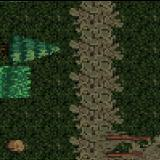Interaction: (100, 127, 143, 160)
Obstacle: (0, 32, 30, 65), (0, 128, 30, 160)
Slow: (0, 65, 30, 98)
